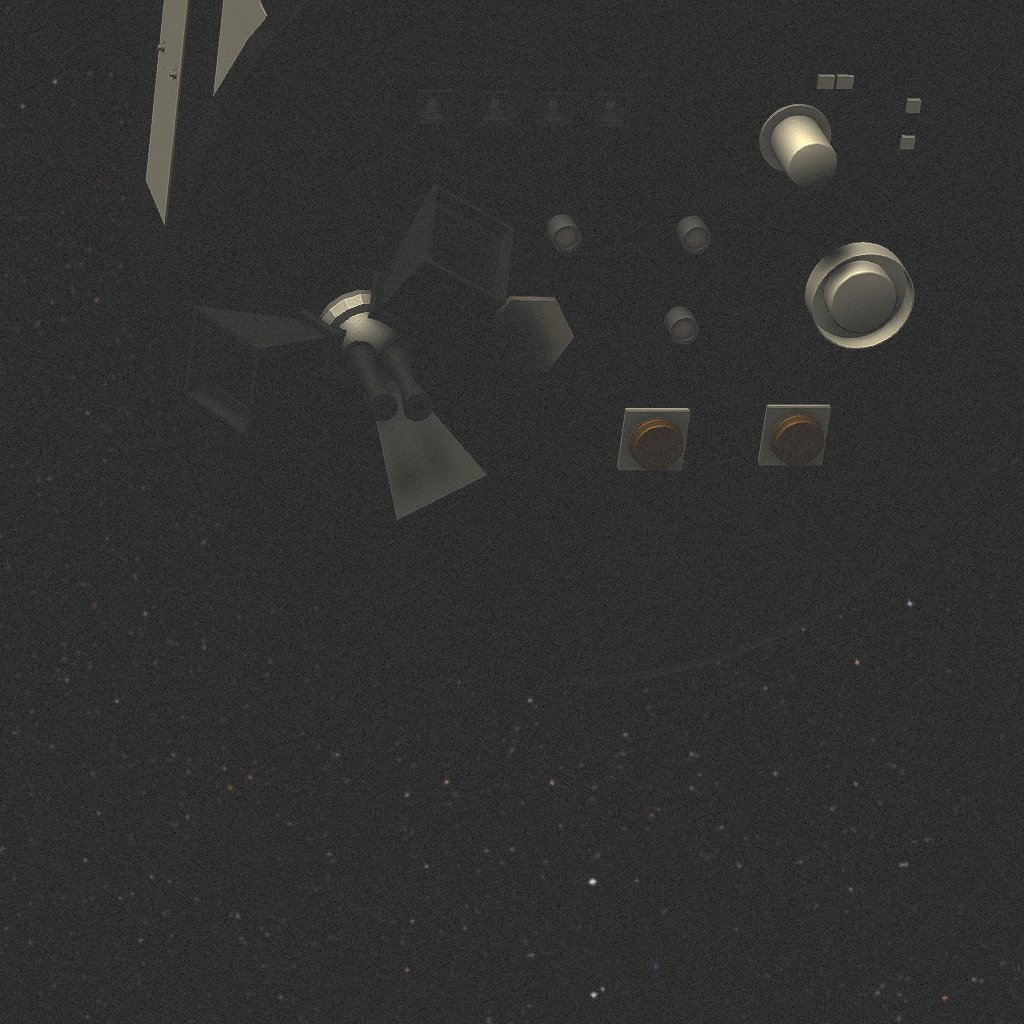proba_3_ocs: (122, 0, 1024, 685)
